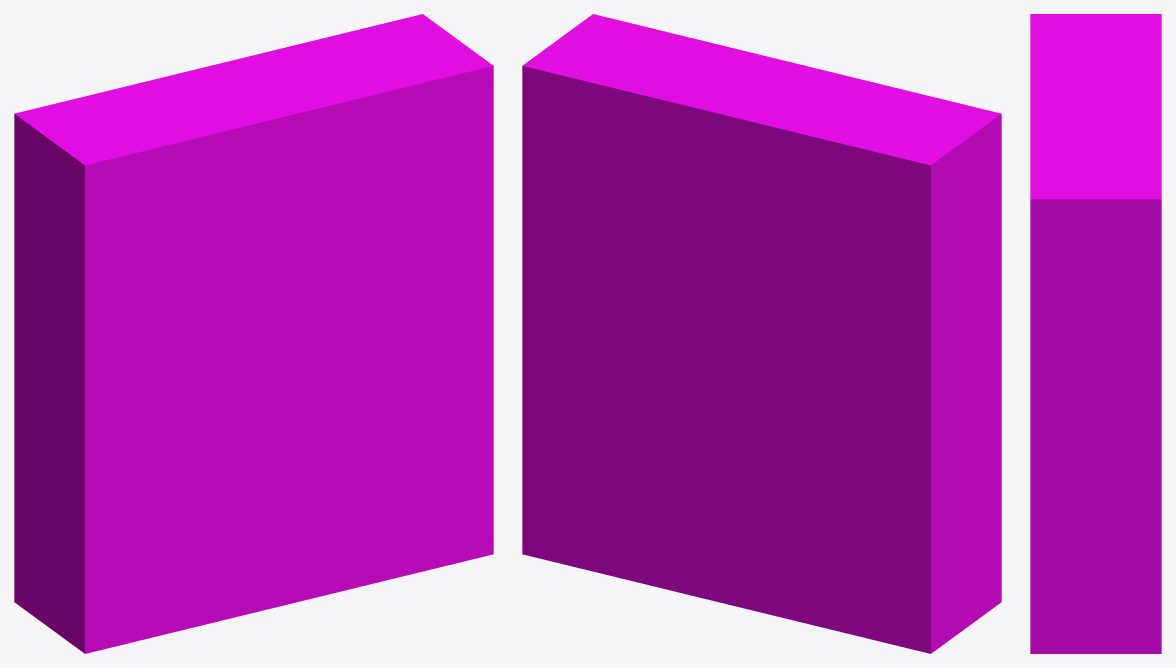
File: maker-result-shelf.collision.glb
The picture shows the model from 3 angles, left to right: view 1: azimuth 30°, elevation 25°; view 2: azimuth 150°, elevation 25°; view 3: azimuth 270°, elevation 25°; orthographic projection. The views are drawn at different scales.
Parts seen in each view (by area): view 1: maker_result_shelf_collision_collision; view 2: maker_result_shelf_collision_collision; view 3: maker_result_shelf_collision_collision.
Boxes of the visible parts, left/top/right/bottom form: maker_result_shelf_collision_collision: left=14, top=14, right=493, bottom=653; maker_result_shelf_collision_collision: left=522, top=14, right=1001, bottom=653; maker_result_shelf_collision_collision: left=1030, top=14, right=1161, bottom=653.
Size of the model in its own units: 1.4 by 1.6 by 0.42.
